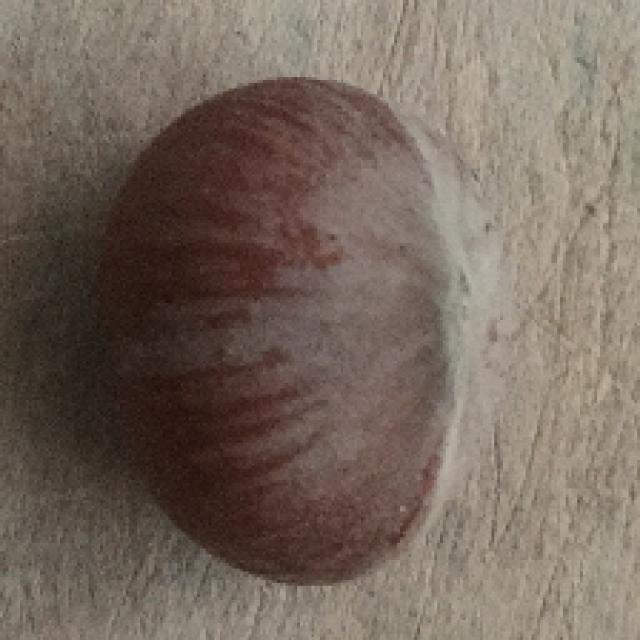qualityHazelnut: (94, 76, 501, 584)
